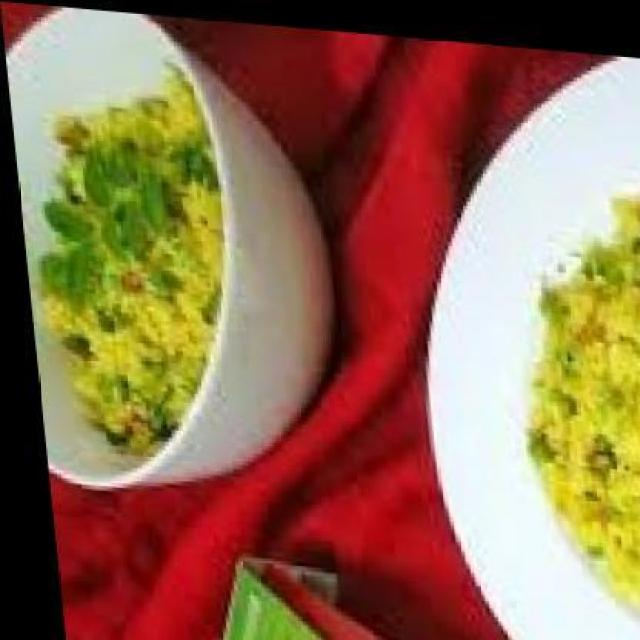poha: (15, 61, 238, 458), (500, 178, 640, 614)
